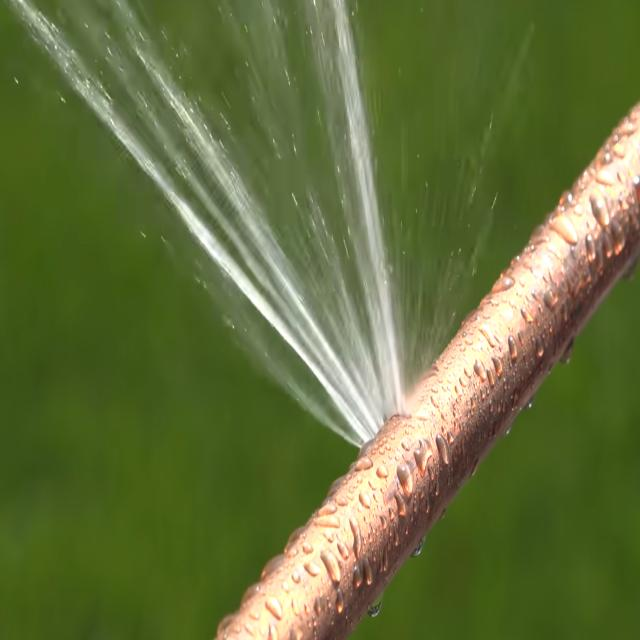leak: (11, 0, 534, 444)
